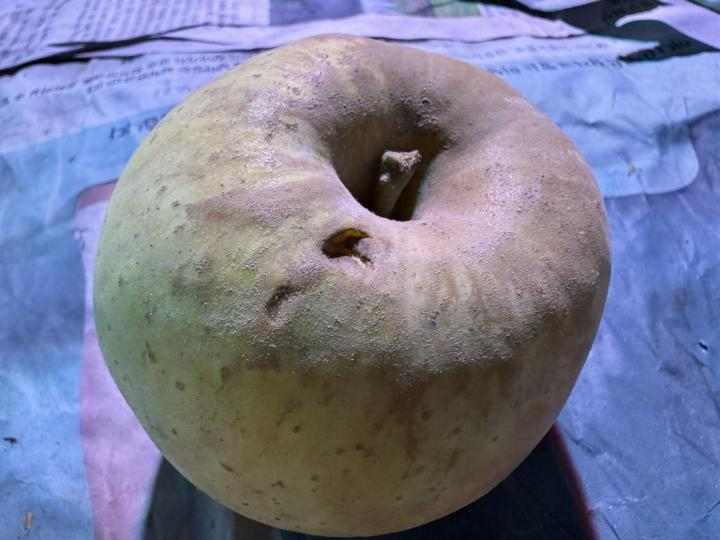apple: (94, 35, 611, 536)
surface_damage: (255, 220, 390, 333)
